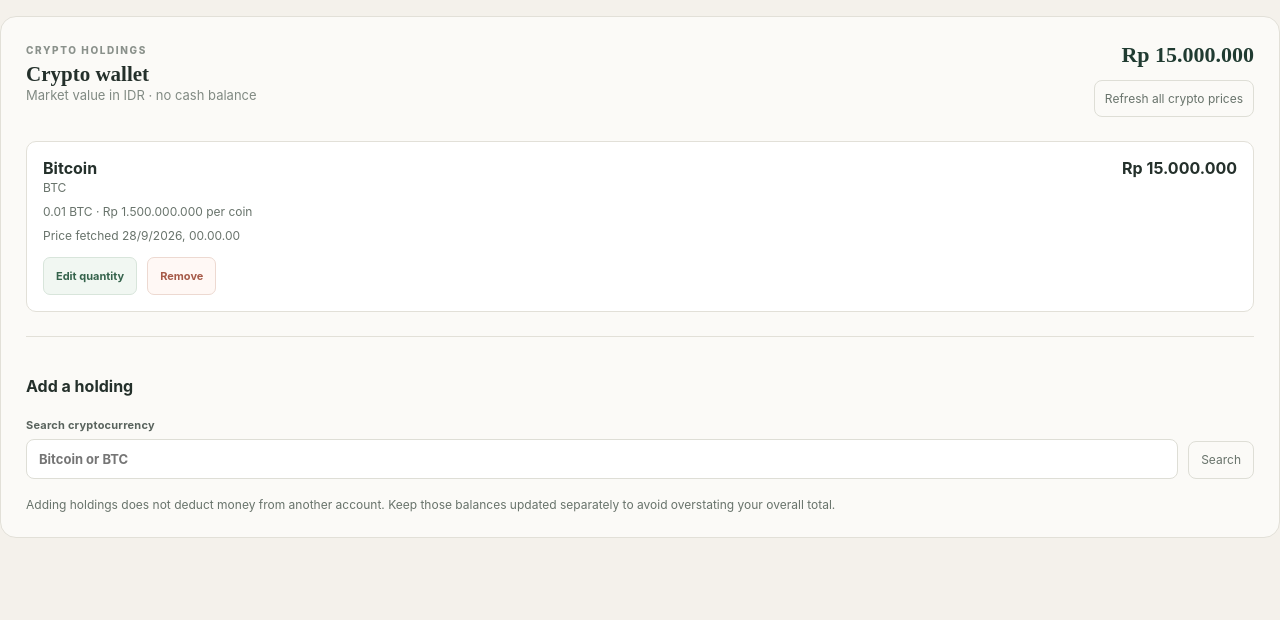
Test: warns about partially refreshed prices instead of reporting full success
Check: the text "0.01 BTC" is shown, box [43,204,252,219]
Click the button "Refresh all crypto prices".
click(1174, 98)  # box [1094,80,1254,117]
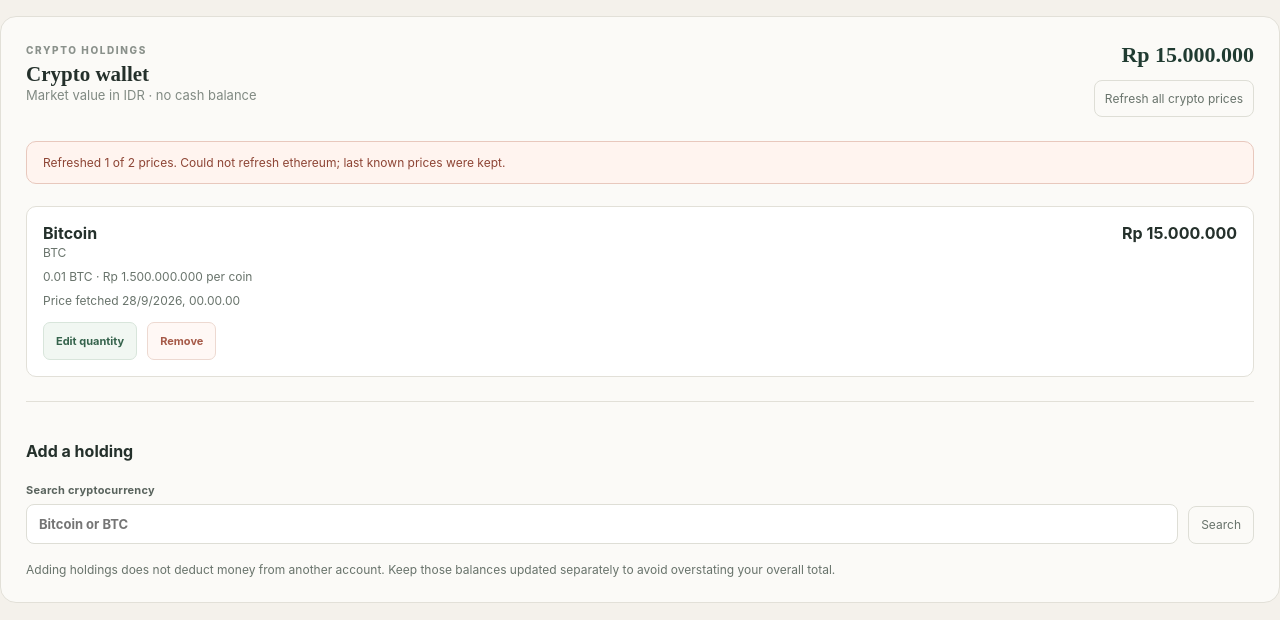
Check: the message shows "Refreshed 1 of 2 prices. Could not refresh ethereum", box [43,155,505,170]
